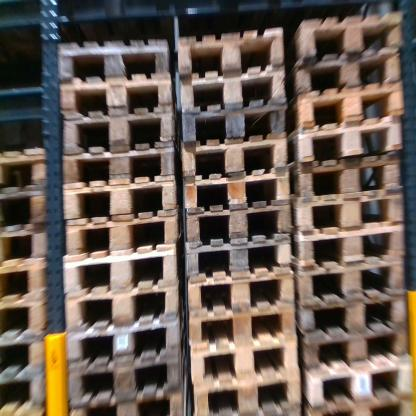pallet: (168, 18, 284, 89), (53, 243, 187, 297), (60, 100, 179, 159), (295, 285, 413, 341), (292, 145, 407, 199), (62, 350, 186, 400), (180, 97, 286, 155), (175, 169, 295, 220), (187, 335, 304, 387), (289, 222, 408, 273), (181, 302, 300, 353), (302, 351, 411, 405), (284, 12, 404, 61), (55, 66, 181, 112), (297, 320, 412, 370), (63, 318, 184, 365), (290, 88, 413, 134), (294, 254, 407, 304), (62, 175, 181, 222), (58, 140, 179, 186), (179, 137, 294, 185), (291, 46, 407, 93), (292, 183, 408, 230), (54, 290, 181, 332), (56, 207, 185, 248), (177, 70, 291, 116), (285, 118, 404, 161), (184, 235, 297, 279), (183, 206, 290, 251), (184, 271, 299, 312), (66, 378, 198, 412), (55, 39, 174, 76), (189, 373, 301, 412), (1, 256, 60, 315), (1, 324, 59, 384), (302, 384, 413, 415), (1, 185, 56, 235), (1, 295, 53, 346), (3, 143, 55, 191), (1, 365, 54, 409), (3, 228, 60, 256)
